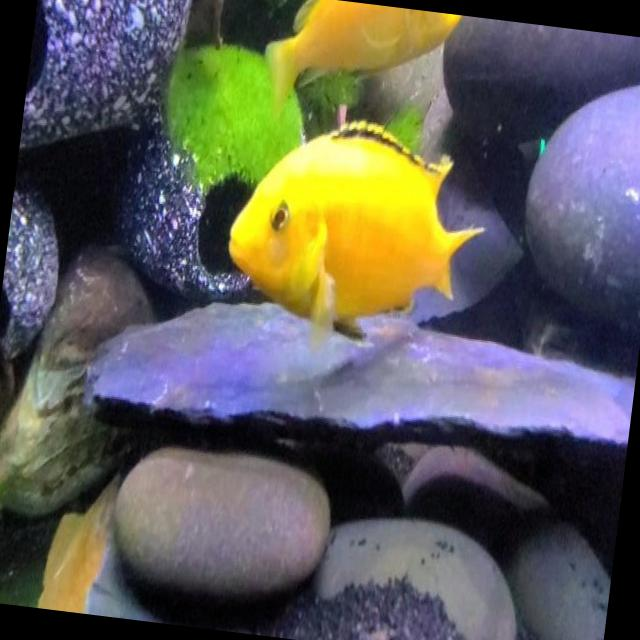YellowCichlid: (218, 104, 489, 338), (230, 0, 517, 123)
